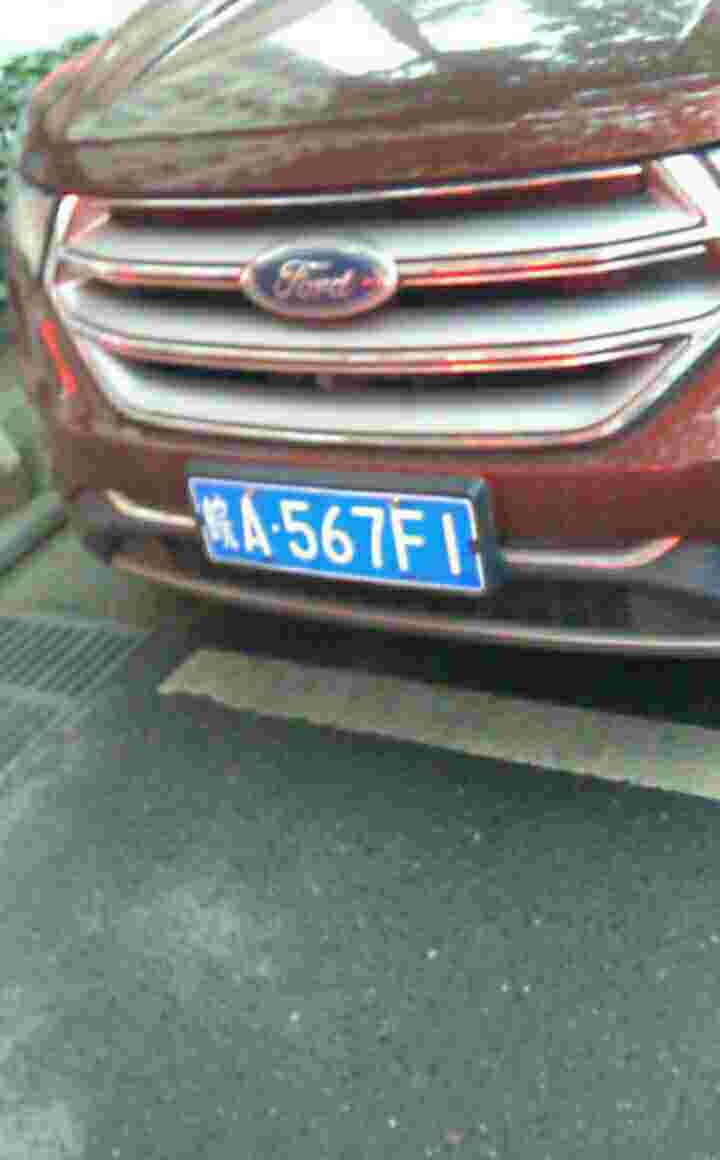license_plate: (185, 481, 476, 594)
